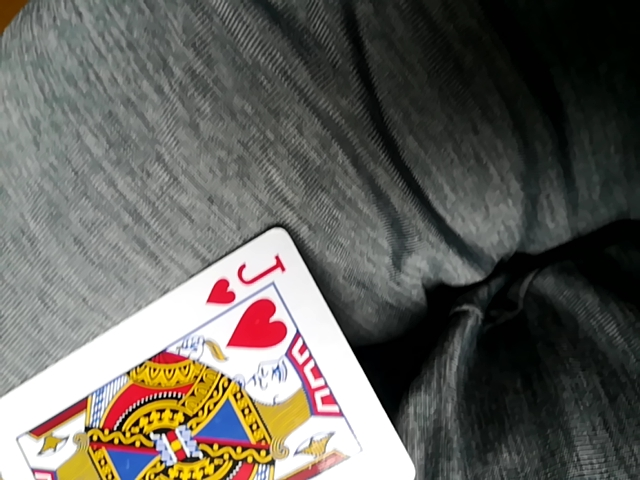hx j: (0, 225, 411, 479)
